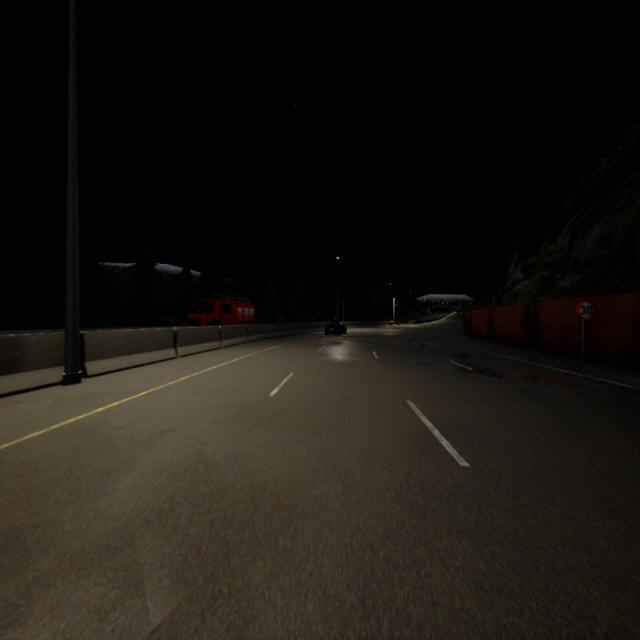Traffic_Signs: (575, 301, 595, 320)
Vehicle: (187, 297, 254, 325), (324, 320, 347, 337)
